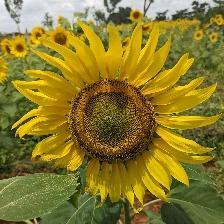sunflower: (13, 19, 224, 209)
